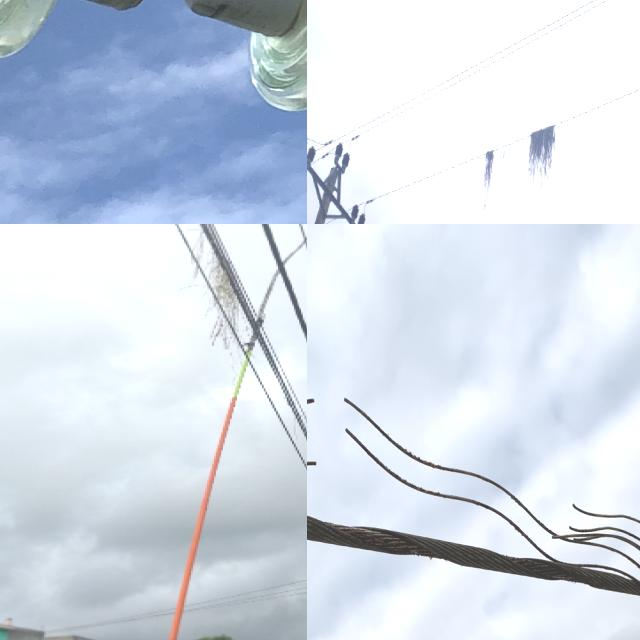植被遮挡: (159, 224, 250, 358), (525, 116, 559, 224), (471, 144, 497, 224)
正常绝缘子: (0, 0, 307, 128), (307, 143, 317, 165), (334, 142, 345, 161), (350, 203, 360, 222), (341, 152, 351, 169), (358, 213, 365, 224)
电缆破损: (307, 377, 640, 606)
绝缘子破损: (106, 0, 244, 32)
